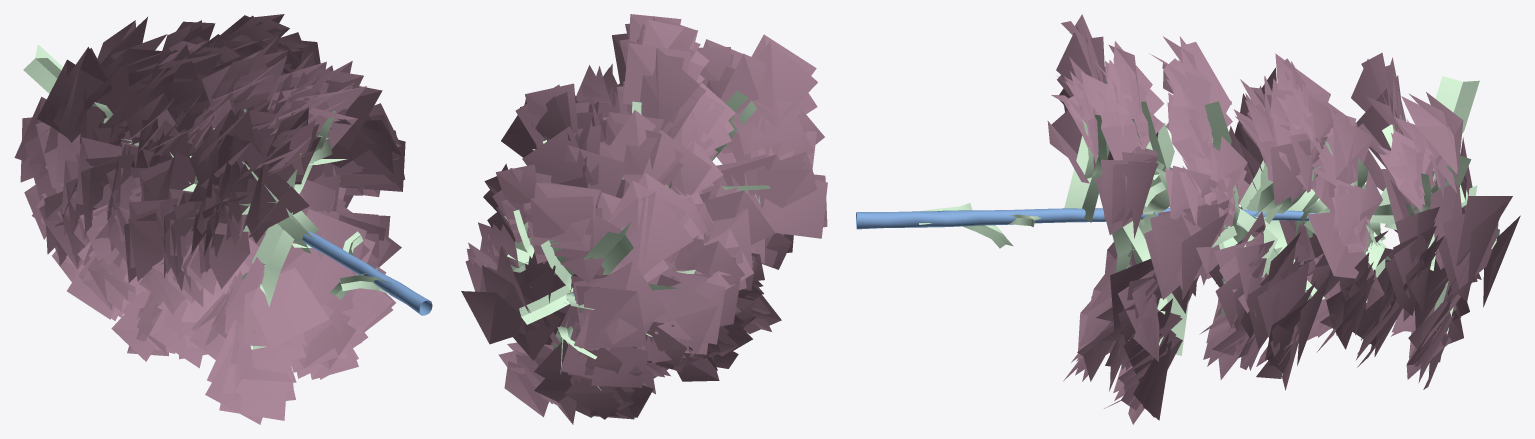
Rendered from Tree_0013.FBX.
3 renders of one model, left to right at view 1: azimuth 30°, elevation 25°; view 2: azimuth 150°, elevation 25°; view 3: azimuth 270°, elevation 25°, orthographic. The views are drawn at different scales.
Parts seen in each view (by area): view 1: Tree_0013_LOD0; view 2: Tree_0013_LOD0; view 3: Tree_0013_LOD0.
Part boxes in pixels (<box>): Tree_0013_LOD0: <box>14,14,432,424</box>; Tree_0013_LOD0: <box>461,14,827,424</box>; Tree_0013_LOD0: <box>856,14,1520,424</box>.
Bounding box in the file's own units: 334 × 600 × 362.
